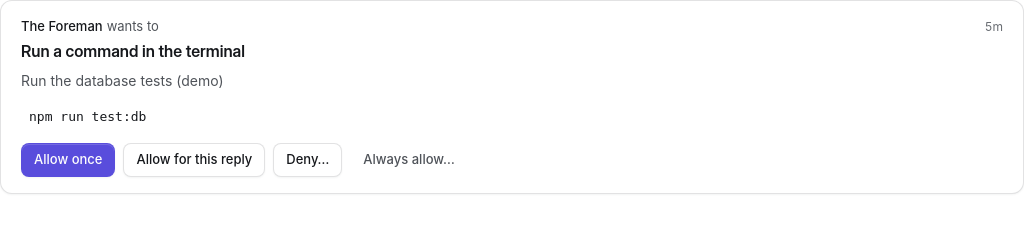
Test: PermissionCard › keeps the card and says why when the answer can’t be sent
The width and height of the screenshot is (1024, 238).
Click the button "Allow once" at [68, 160], box top-left (21, 143), bottom-right (116, 177)
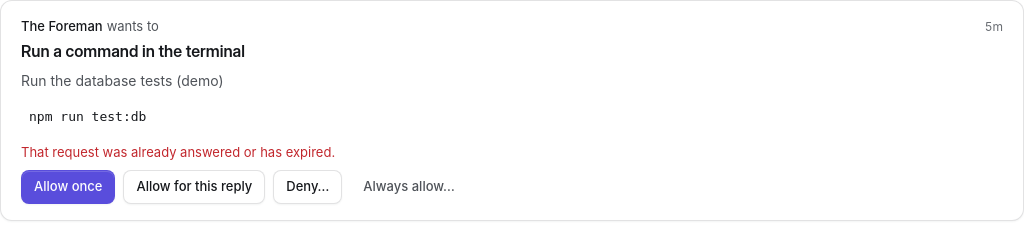
Expected: the button "Allow once" is enabled, top-left (21, 170), bottom-right (116, 204)
Expected: the message shows "already answered", top-left (21, 144), bottom-right (335, 160)
